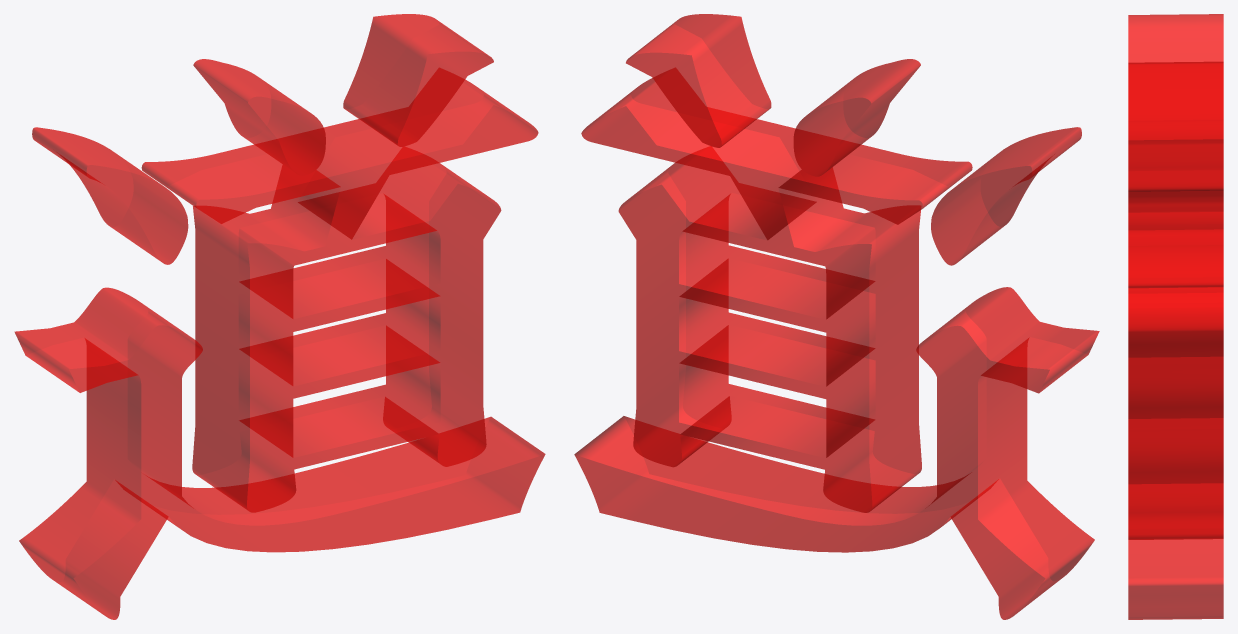
Rendered from quest.gltf.
The picture shows the model from 3 angles, left to right: view 1: azimuth 30°, elevation 25°; view 2: azimuth 150°, elevation 25°; view 3: azimuth 270°, elevation 25°; orthographic projection. The views are drawn at different scales.
Visible parts, largest first — view 1: Path; view 2: Path; view 3: Path.
Part boxes in pixels (x1=…): Path: x1=14, y1=14, x2=545, y2=619; Path: x1=574, y1=14, x2=1099, y2=619; Path: x1=1128, y1=14, x2=1223, y2=619.
Size of the model in its own units: 0.6761 by 0.6597 by 0.1274.
